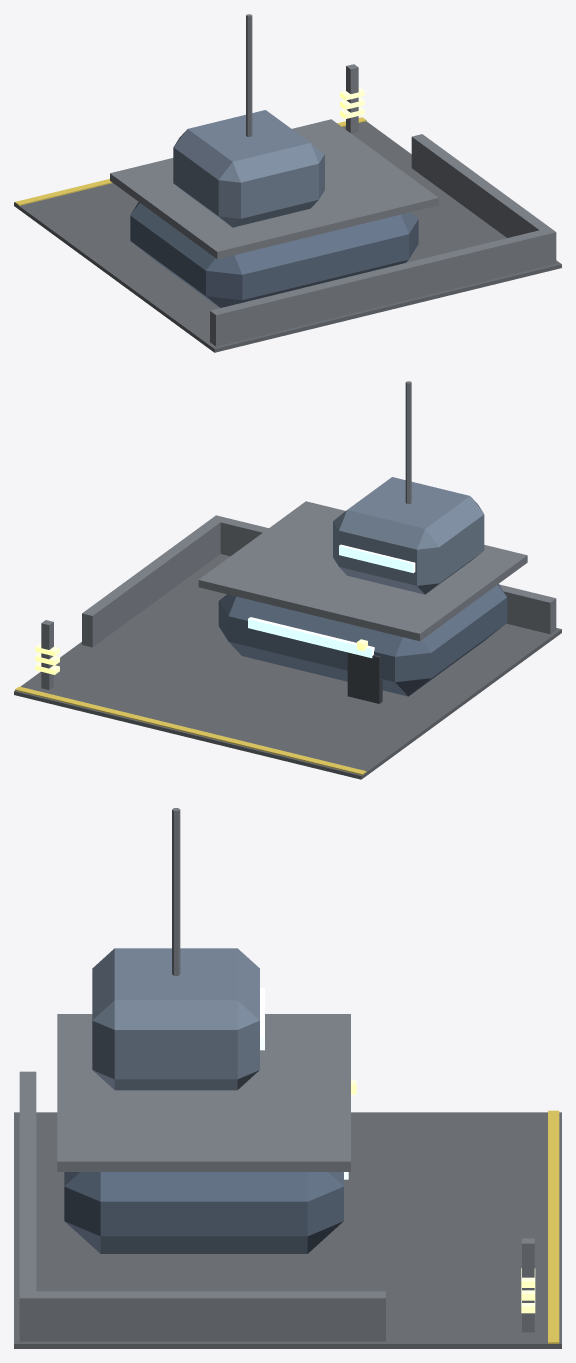
Rendered from zone_low_2_t3.glb.
3 renders of one model, top to bottom at view 1: azimuth 30°, elevation 25°; view 2: azimuth 150°, elevation 25°; view 3: azimuth 270°, elevation 25°, orthographic. The views are drawn at different scales.
Visible parts, largest first — view 1: zone_low_2_t3, detail; view 2: zone_low_2_t3, detail; view 3: zone_low_2_t3, detail.
Part boxes in pixels (x1=…): zone_low_2_t3: x1=14, y1=110, x2=561, y2=352; detail: x1=15, y1=14, x2=366, y2=205; zone_low_2_t3: x1=14, y1=477, x2=561, y2=779; detail: x1=15, y1=381, x2=411, y2=775; zone_low_2_t3: x1=14, y1=948, x2=561, y2=1348; detail: x1=172, y1=808, x2=559, y2=1343.
Bounding box in the file's own units: 19.6 × 14.62 × 19.6.
